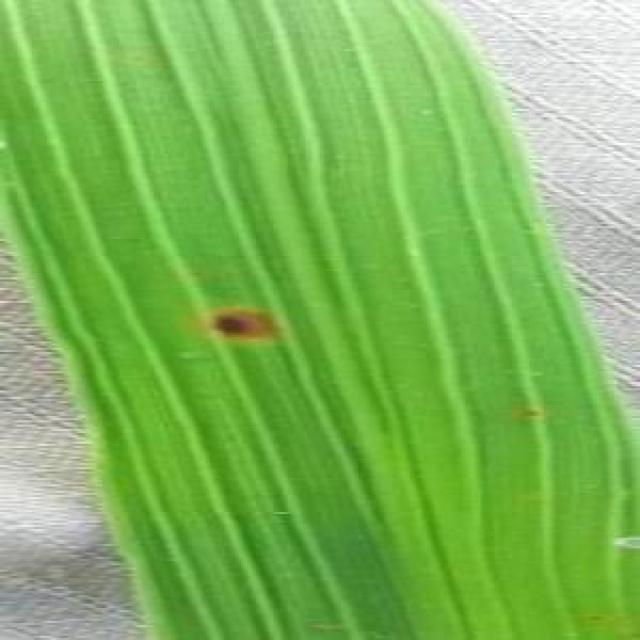Brown_Spot: (192, 292, 297, 348), (576, 606, 610, 625), (521, 401, 544, 422)
